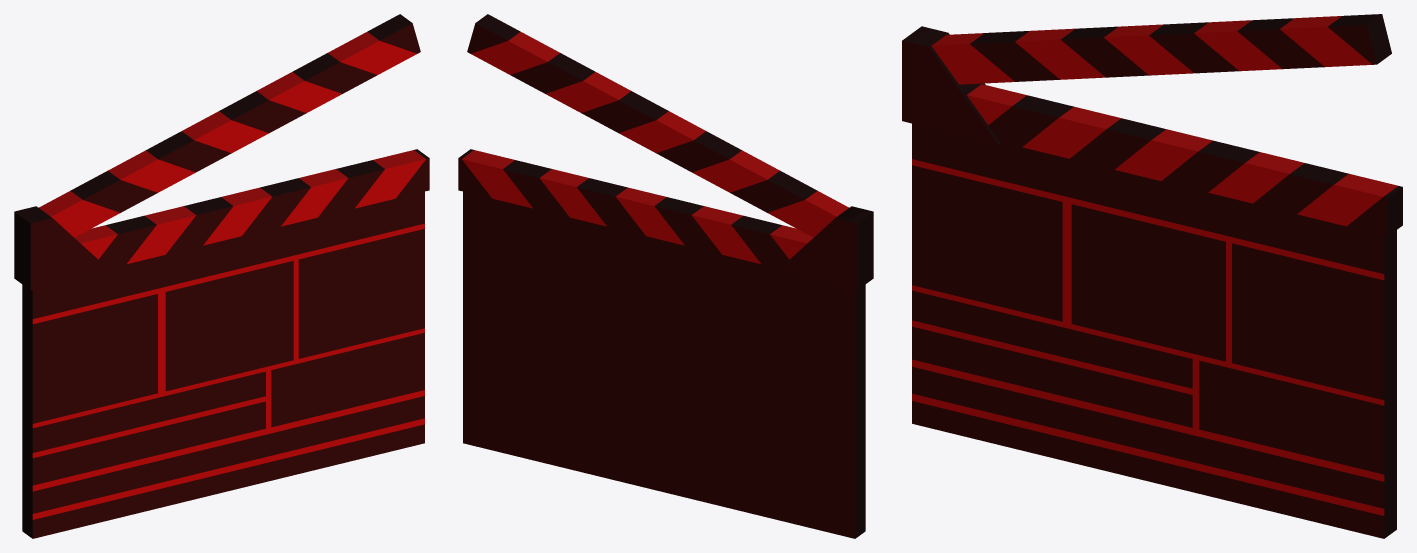
Rendered from Clapperboard.glb.
The picture shows the model from 3 angles, left to right: view 1: azimuth 30°, elevation 25°; view 2: azimuth 150°, elevation 25°; view 3: azimuth 330°, elevation 25°; orthographic projection. The views are drawn at different scales.
Parts seen in each view (by area): view 1: Clapperboard; view 2: Clapperboard; view 3: Clapperboard.
Part boxes in pixels (x1,y1,x2,y2): Clapperboard: (14,14,429,538); Clapperboard: (458,14,873,538); Clapperboard: (902,14,1402,538).
Size of the model in its own units: 1.31 by 1.33 by 0.0926.
